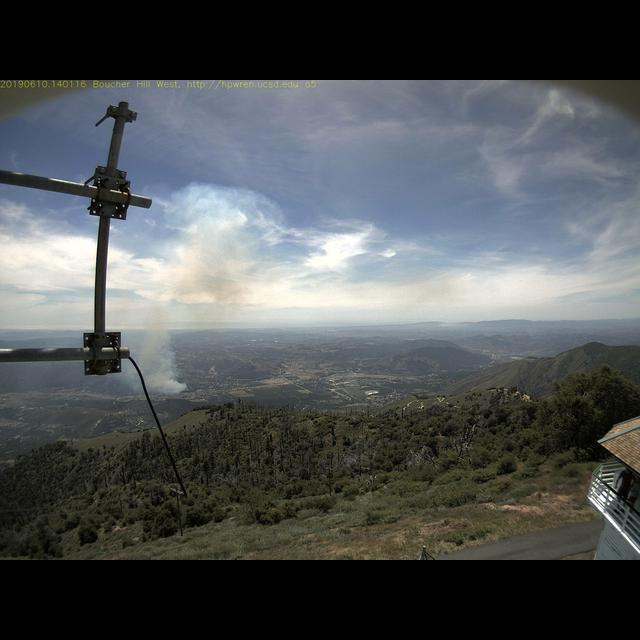Smoke: (117, 181, 287, 402)
